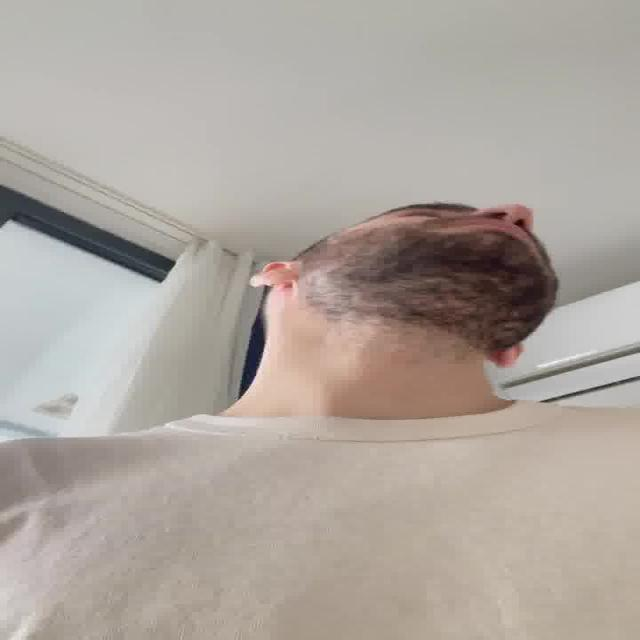earlobe: (252, 258, 304, 288)
